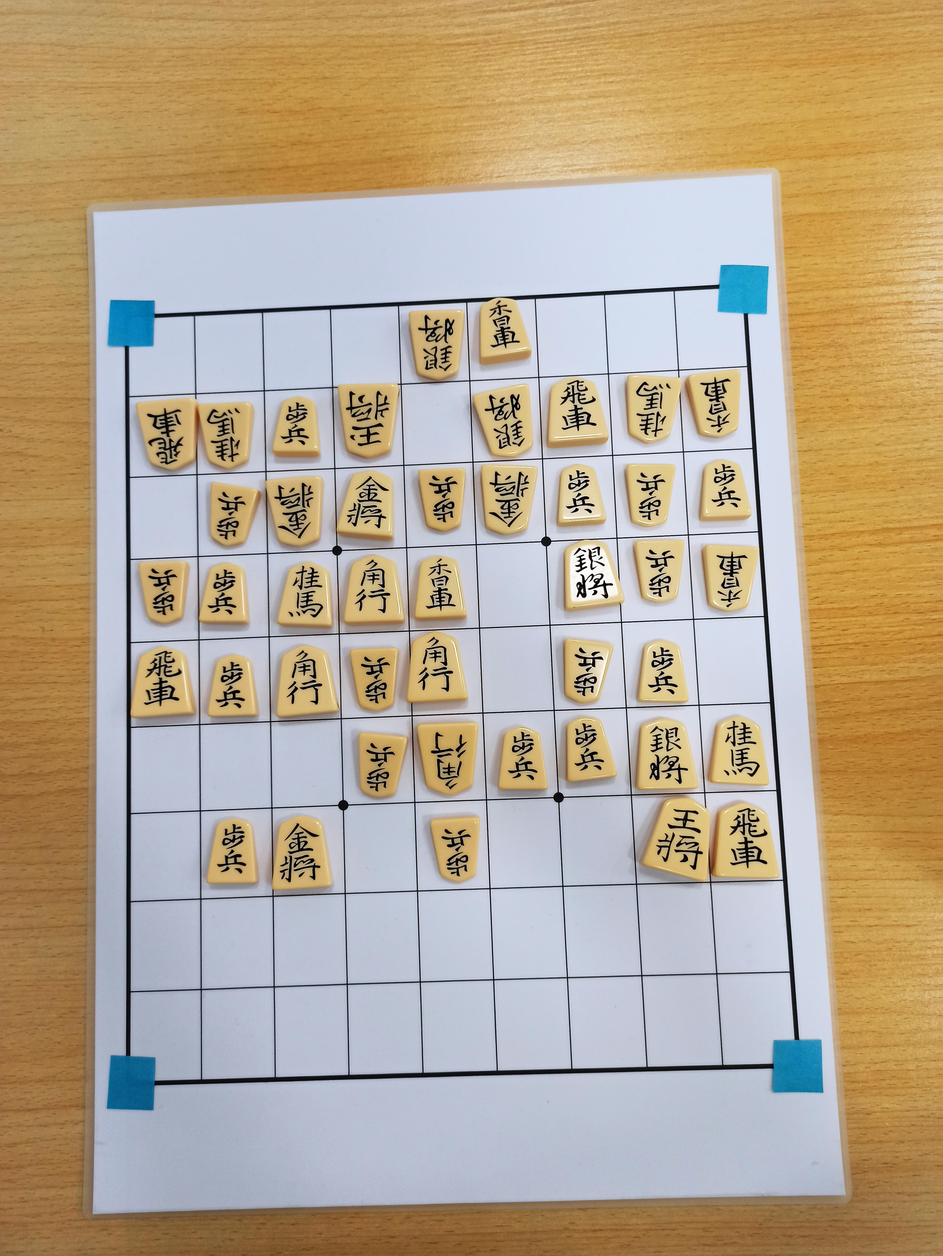board: (126, 287, 799, 1084)
